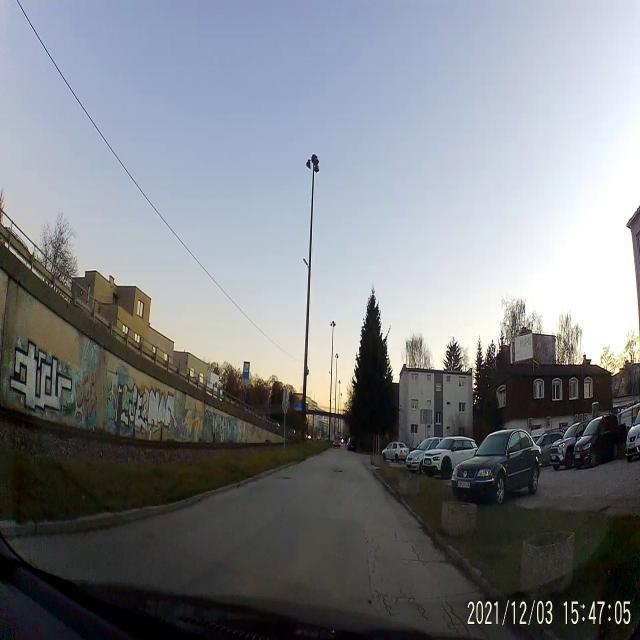Pothole: (270, 472, 294, 484), (330, 466, 348, 478)
